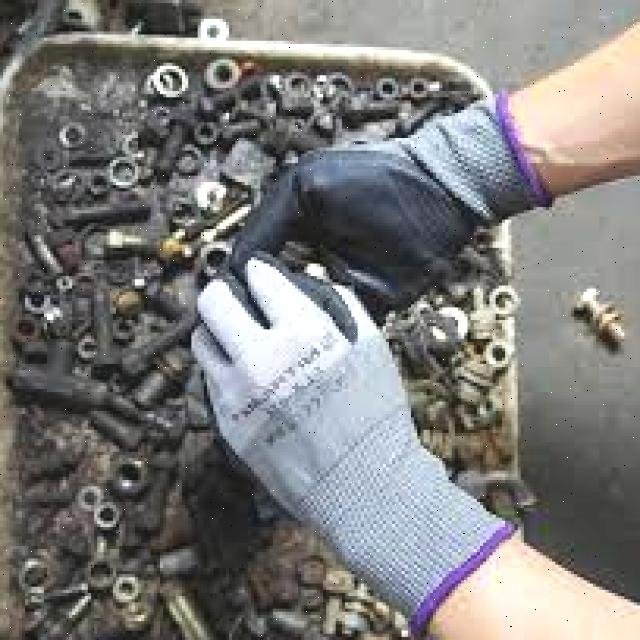Gloves: (192, 255, 512, 632), (235, 100, 548, 308)
